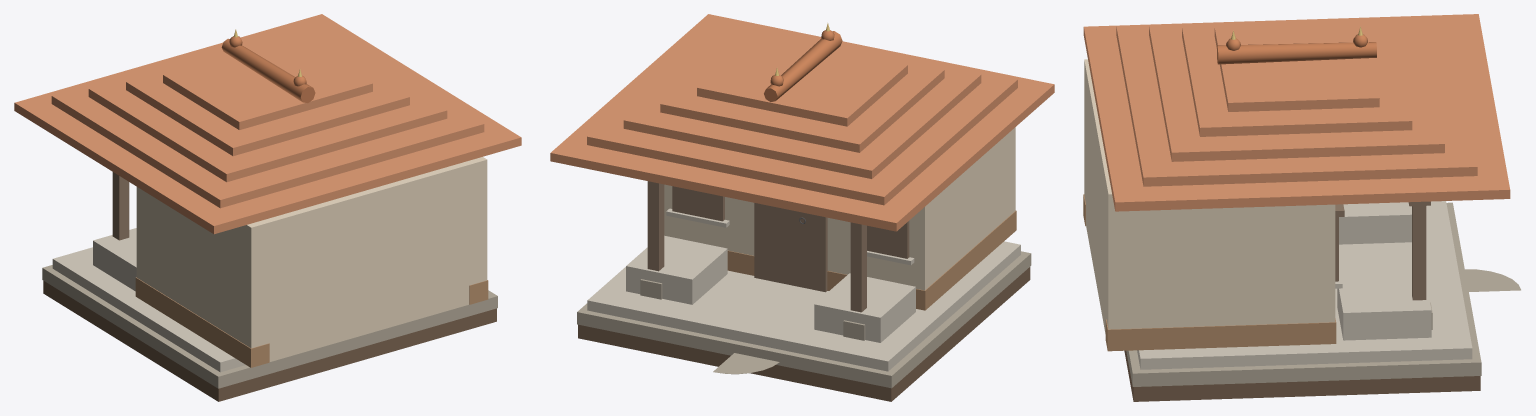
File: south_indian_village_small_house.glb
3 renders of one model, left to right at view 1: azimuth 30°, elevation 25°; view 2: azimuth 150°, elevation 25°; view 3: azimuth 270°, elevation 25°, orthographic. The views are drawn at different scales.
Visible parts, largest first — view 1: House_Terracotta_Roof, House_Mud_Plaster_Walls, House_Plinth_Base, House_Foundation_Skirt, House_Veranda_Stoop, Veranda_Post_Right; view 2: House_Terracotta_Roof, House_Plinth_Base, House_Mud_Plaster_Walls, House_Door_And_Windows, House_Veranda_Stoop, House_Foundation_Skirt, Veranda_Post_Left, Veranda_Post_Right; view 3: House_Terracotta_Roof, House_Mud_Plaster_Walls, House_Plinth_Base, House_Veranda_Stoop, House_Foundation_Skirt, Veranda_Post_Left, House_Door_And_Windows.
Boxes of the visible parts, left/top/right/bottom form: House_Terracotta_Roof: left=14, top=14, right=521, bottom=234; House_Mud_Plaster_Walls: left=135, top=157, right=488, bottom=367; House_Plinth_Base: left=42, top=247, right=497, bottom=388; House_Foundation_Skirt: left=43, top=280, right=496, bottom=401; House_Veranda_Stoop: left=93, top=228, right=136, bottom=291; Veranda_Post_Right: left=112, top=172, right=129, bottom=240; House_Terracotta_Roof: left=550, top=14, right=1054, bottom=231; House_Plinth_Base: left=577, top=241, right=1031, bottom=388; House_Mud_Plaster_Walls: left=664, top=127, right=1016, bottom=310; House_Door_And_Windows: left=666, top=186, right=914, bottom=292; House_Veranda_Stoop: left=626, top=235, right=915, bottom=342; House_Foundation_Skirt: left=578, top=267, right=1030, bottom=401; Veranda_Post_Left: left=640, top=181, right=664, bottom=299; Veranda_Post_Right: left=843, top=222, right=866, bottom=340; House_Terracotta_Roof: left=1083, top=14, right=1510, bottom=211; House_Mud_Plaster_Walls: left=1083, top=59, right=1336, bottom=351; House_Plinth_Base: left=1126, top=201, right=1520, bottom=386; House_Veranda_Stoop: left=1337, top=202, right=1431, bottom=340; House_Foundation_Skirt: left=1124, top=350, right=1480, bottom=401; Veranda_Post_Left: left=1408, top=201, right=1432, bottom=329; House_Door_And_Windows: left=1335, top=204, right=1344, bottom=288.
Size of the model in its own units: 5.29 by 3.78 by 5.2.
